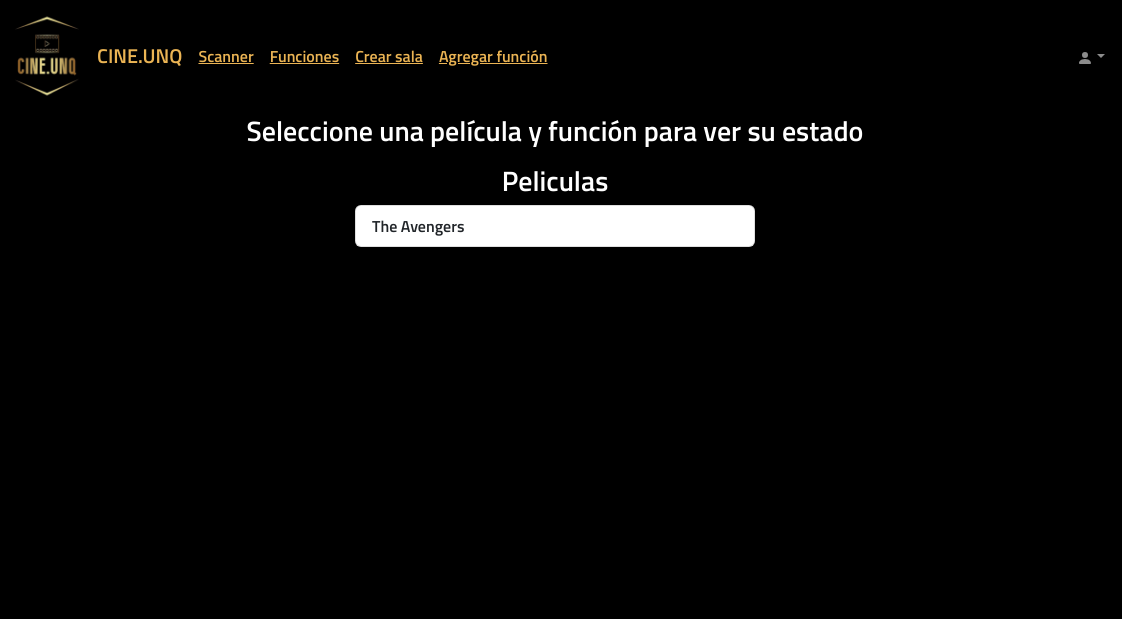
it display seats state from one function selected
The width and height of the screenshot is (1122, 619).
What coordinates should you click on to do the following:
click the button with test id "seleccion-pelicula-item"
I would click on:
 (418, 226)
Its box is [355,205,755,247].
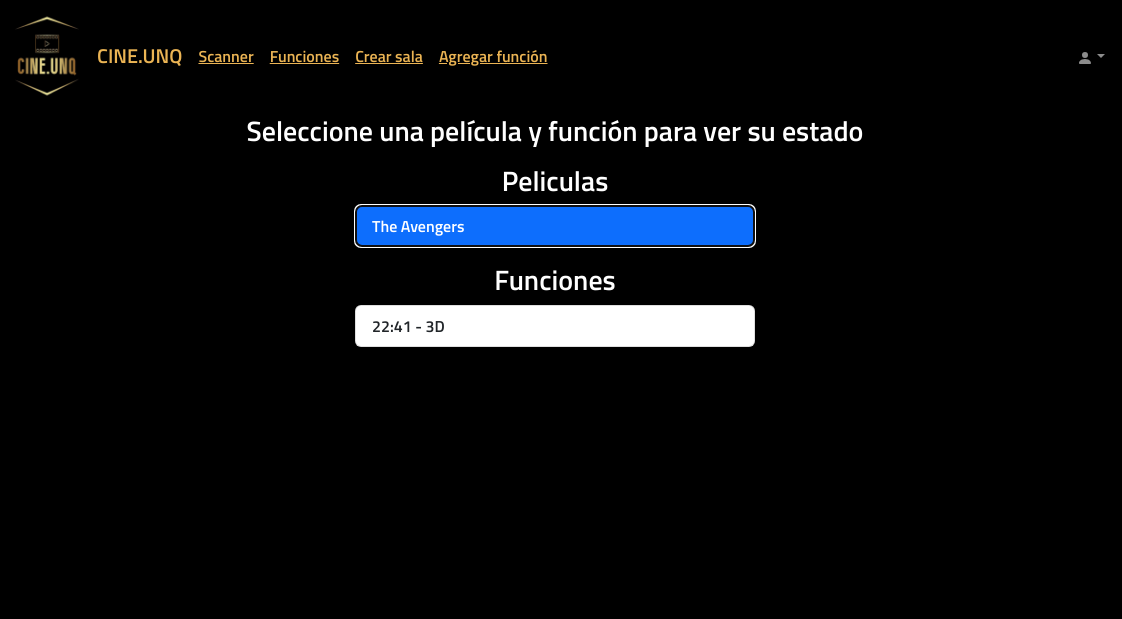
What coordinates should you click on to do the following:
click the button with test id "seleccion-function-item"
I would click on:
 (408, 326)
Its box is [355,305,755,347].
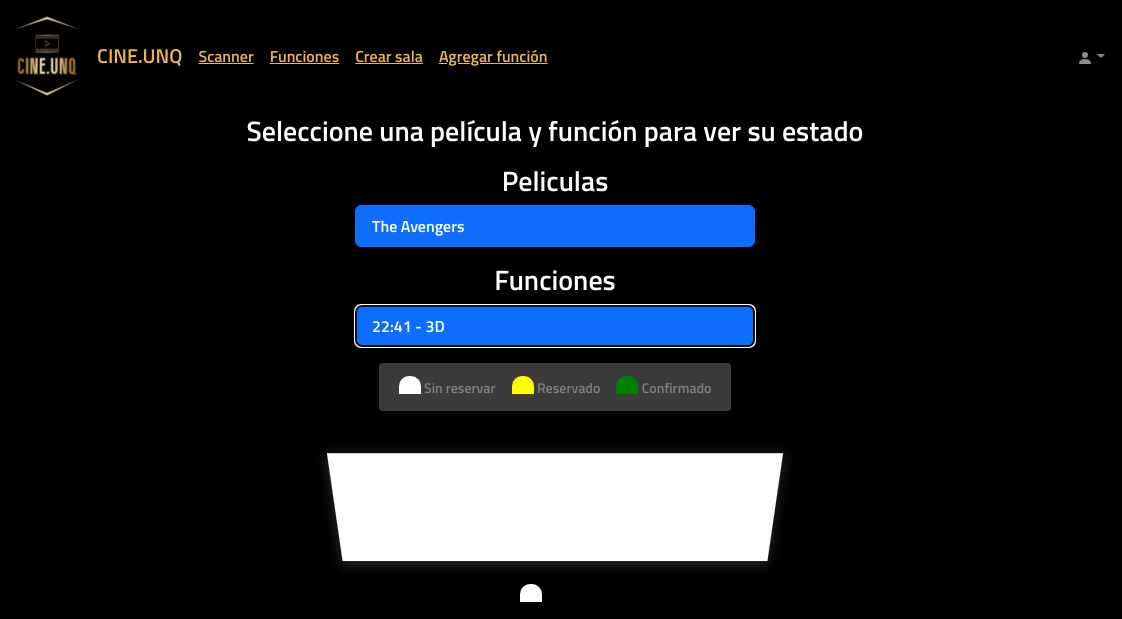
Check: the element with test id "estado-asientos" is shown, box [327,453,783,561]
